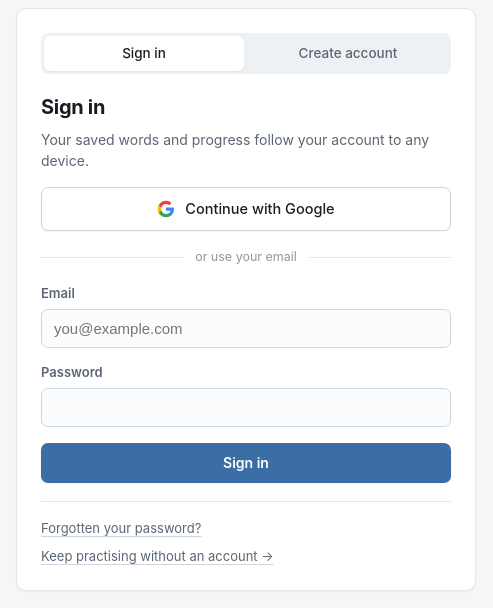
AccountPage — signed out › sends a reset link without revealing whether the address has an account
Click the button "Forgotten your password?" at {"x": 121, "y": 528}, box [41,518,201,538]
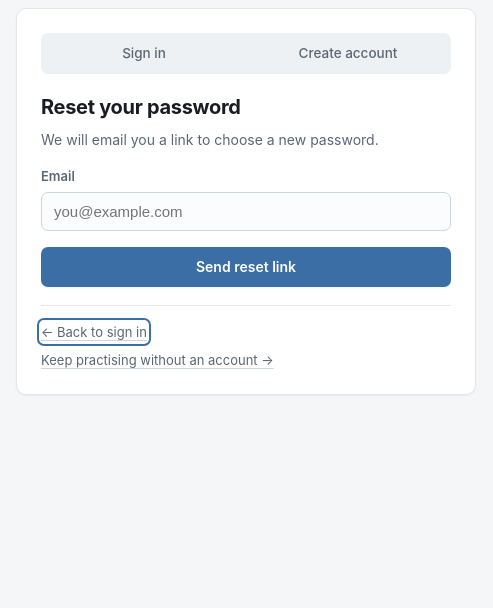
Type "learner@example.com" into the field labelled "Email" at {"x": 246, "y": 212}, box [41,192,451,231]
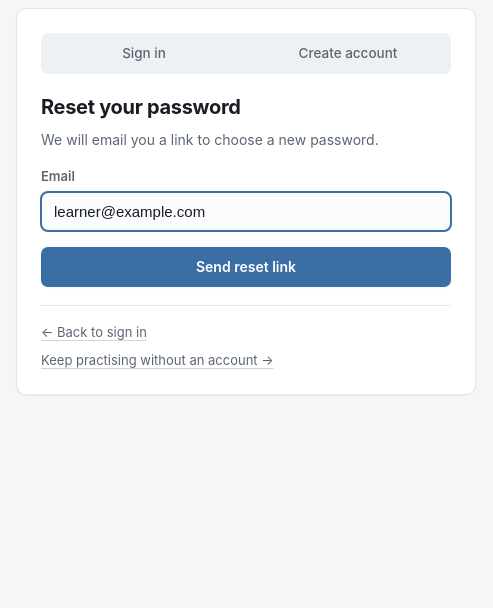
Click the button "Send reset link" at {"x": 246, "y": 267}, box [41,247,451,287]
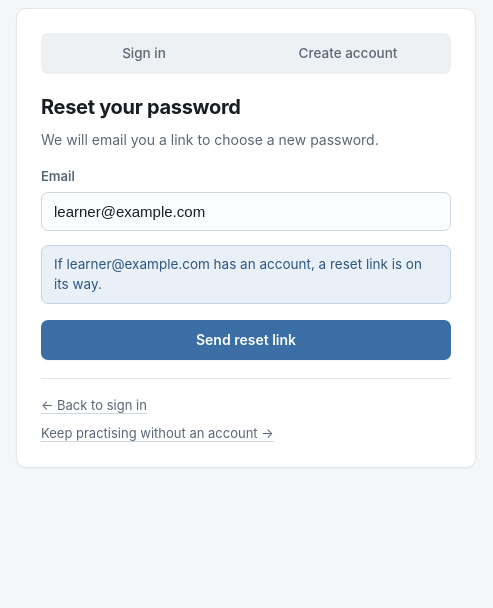
Expected: the text "If learner@example.com has an account" is shown, [54,256,422,292]
